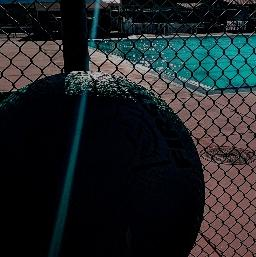algae: (0, 74, 207, 257)
